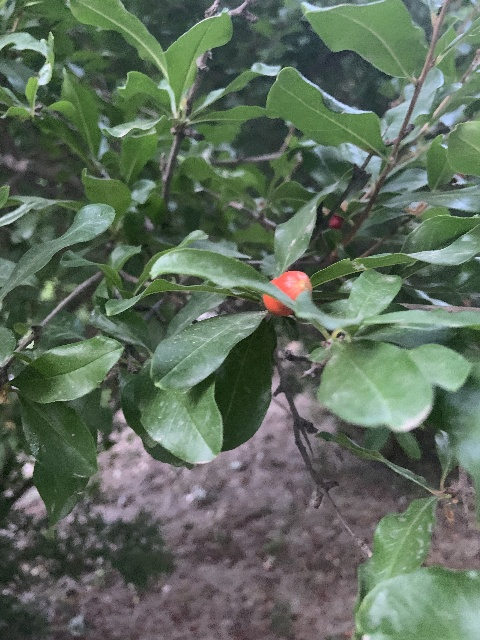bud: (263, 270, 311, 316)
